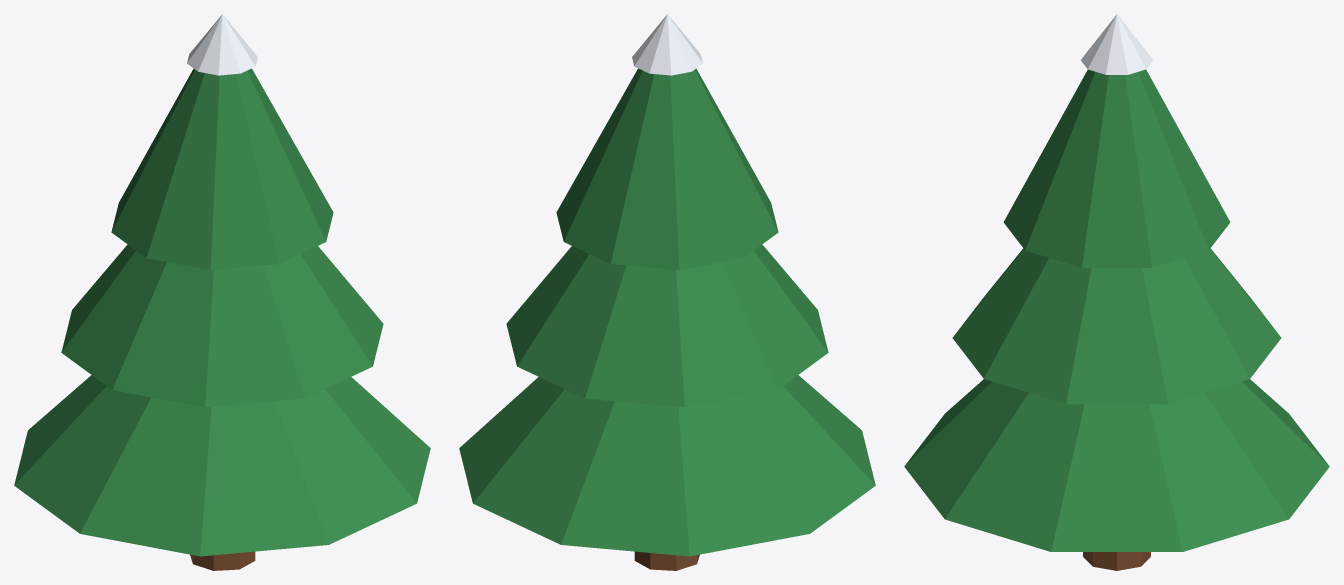
The model's file is Prop_Snow_Pine.fbx.
3 renders of one model, left to right at view 1: azimuth 30°, elevation 25°; view 2: azimuth 150°, elevation 25°; view 3: azimuth 270°, elevation 25°, orthographic.
Visible parts, largest first — view 1: Prop_Snow_Pine; view 2: Prop_Snow_Pine; view 3: Prop_Snow_Pine.
Boxes of the visible parts, left/top/right/bottom form: Prop_Snow_Pine: left=14, top=14, right=430, bottom=570; Prop_Snow_Pine: left=459, top=14, right=875, bottom=570; Prop_Snow_Pine: left=904, top=14, right=1329, bottom=570.
Bounding box in the file's own units: 1.43 × 2.11 × 1.5.
